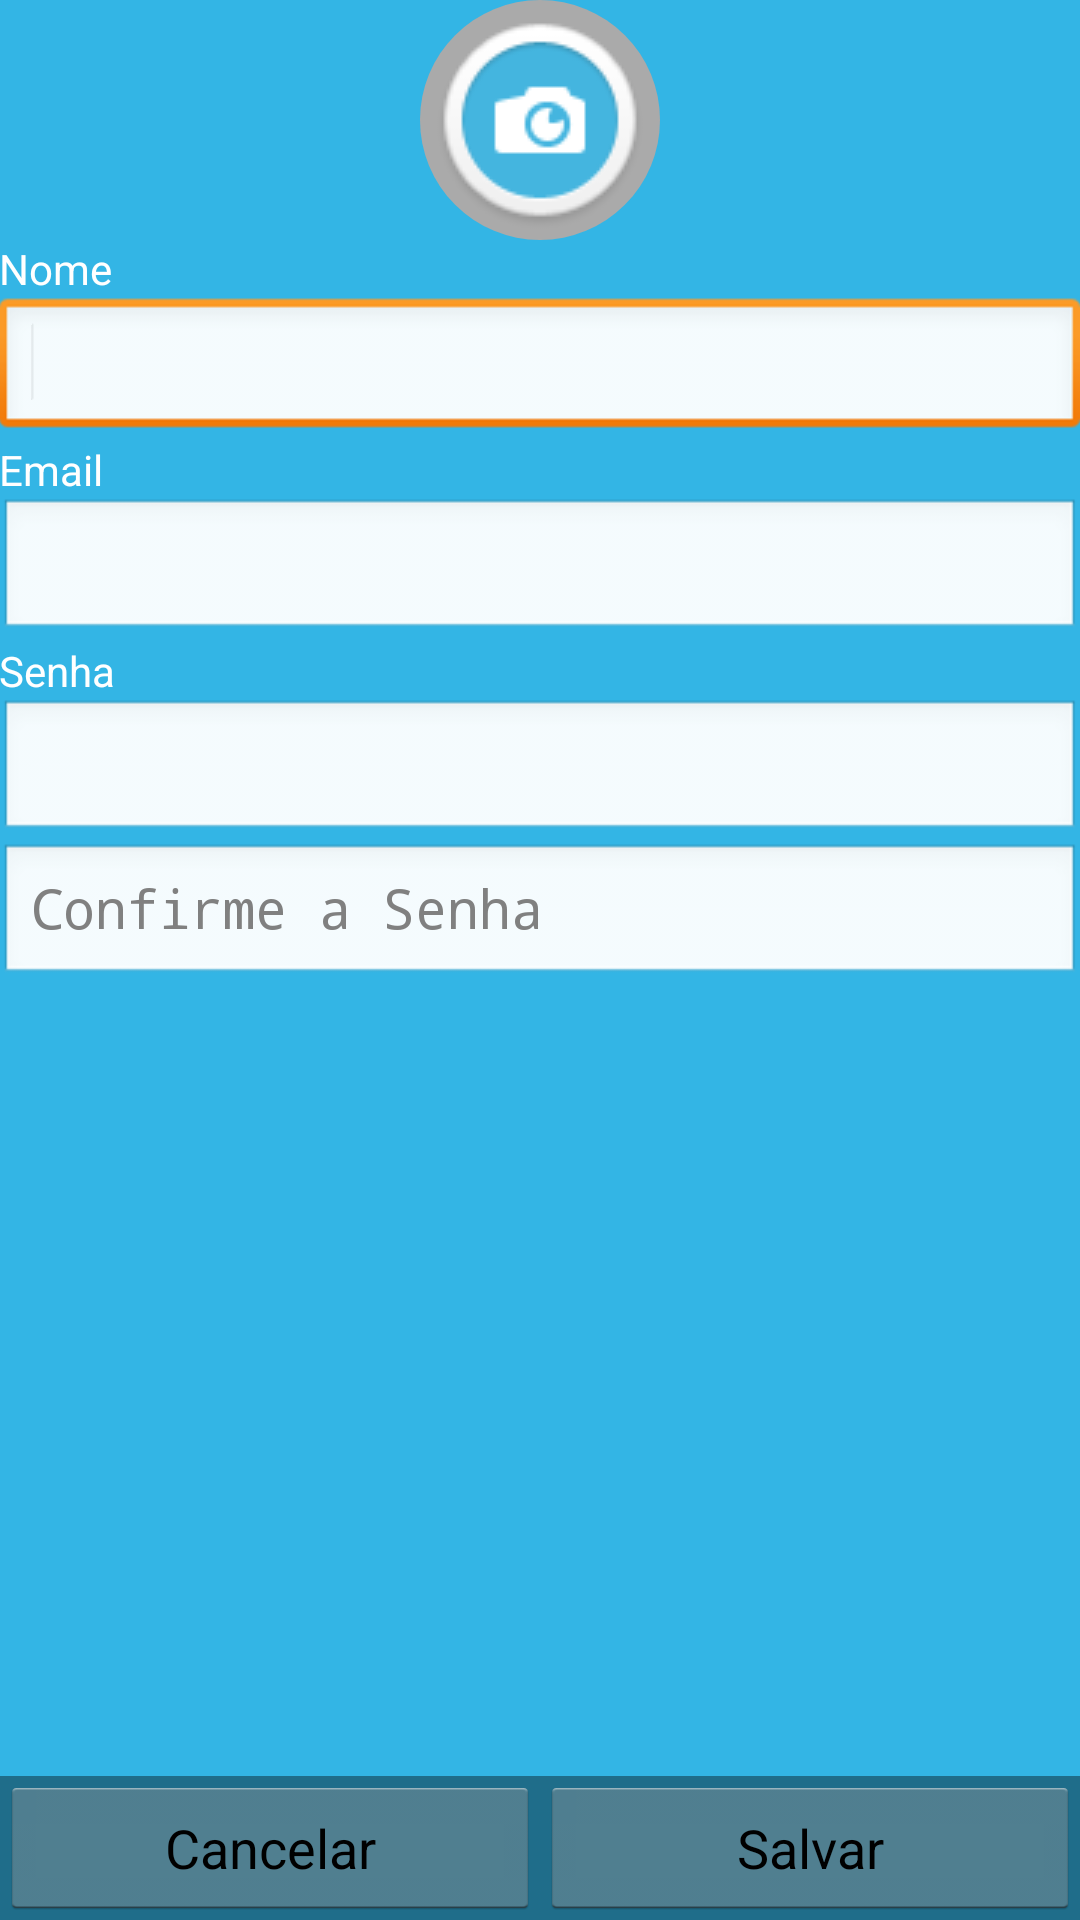

Point at icon controls on the screen. Image size 1080x1920, points as (x,y).
camera: (540,120)
